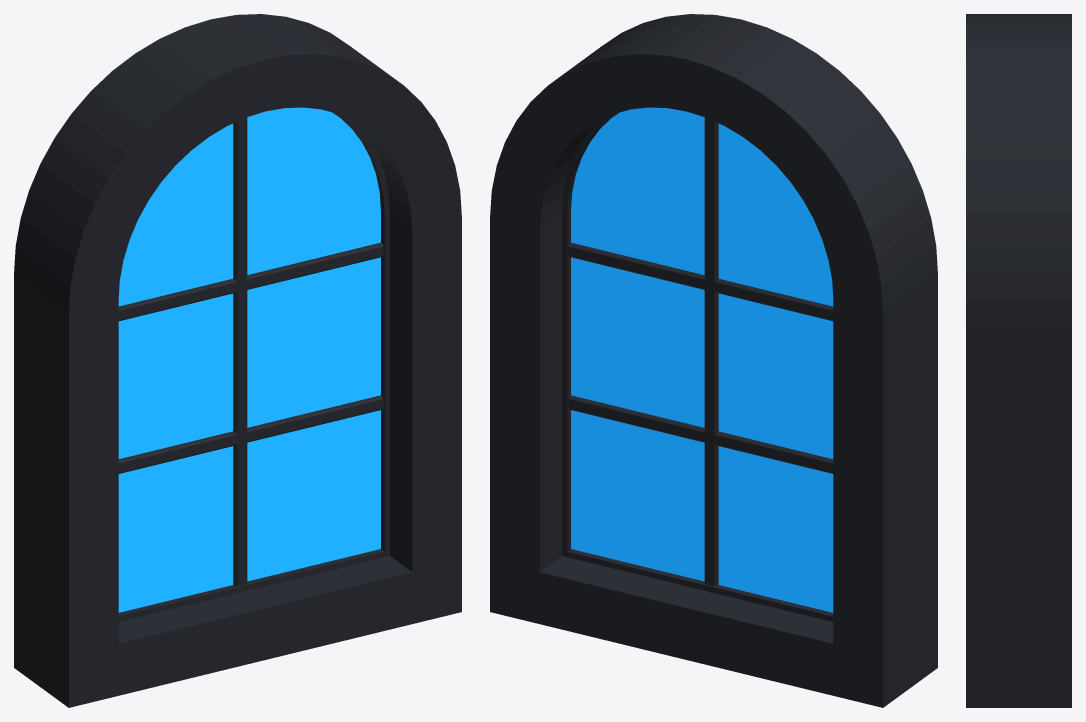
The model's file is janela_arco_2x3_preta.glb.
3 views of the same model, side by side, from view 1: azimuth 30°, elevation 25°; view 2: azimuth 150°, elevation 25°; view 3: azimuth 270°, elevation 25° (orthographic). The views are drawn at different scales.
Visible parts, largest first — view 1: janela_arco_2x3_preta; view 2: janela_arco_2x3_preta; view 3: janela_arco_2x3_preta.
Part boxes in pixels (left/top/right/bottom): janela_arco_2x3_preta: left=14, top=14, right=461, bottom=707; janela_arco_2x3_preta: left=490, top=14, right=937, bottom=707; janela_arco_2x3_preta: left=966, top=14, right=1071, bottom=707.
Bounding box in the file's own units: 0.87 × 1.27 × 0.21.
